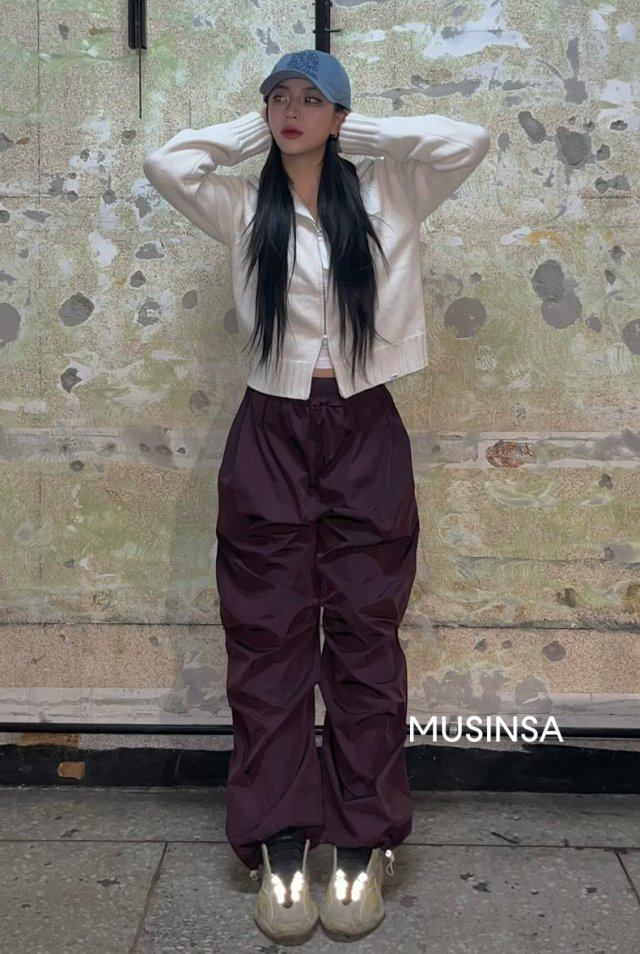Cap: (254, 46, 356, 105)
Outer: (150, 152, 467, 402)
Pants: (206, 370, 424, 854)
Shoes: (248, 836, 412, 943)
